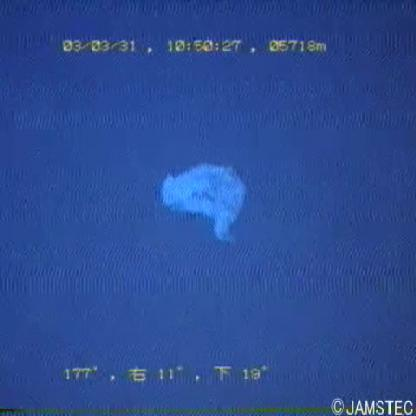Rác: (155, 152, 257, 250)
